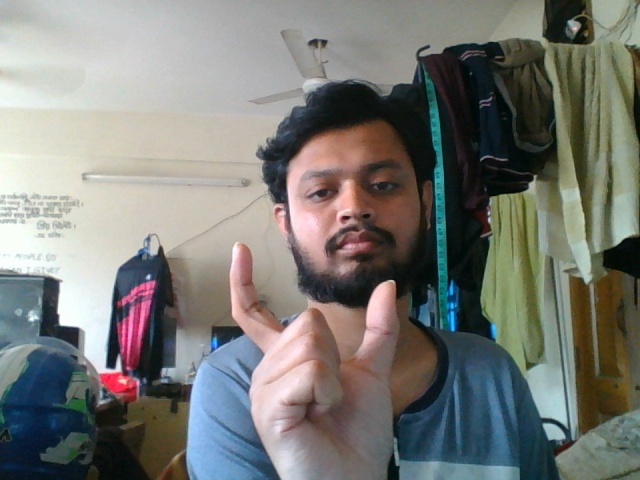chandrobindu: (224, 236, 408, 480)
